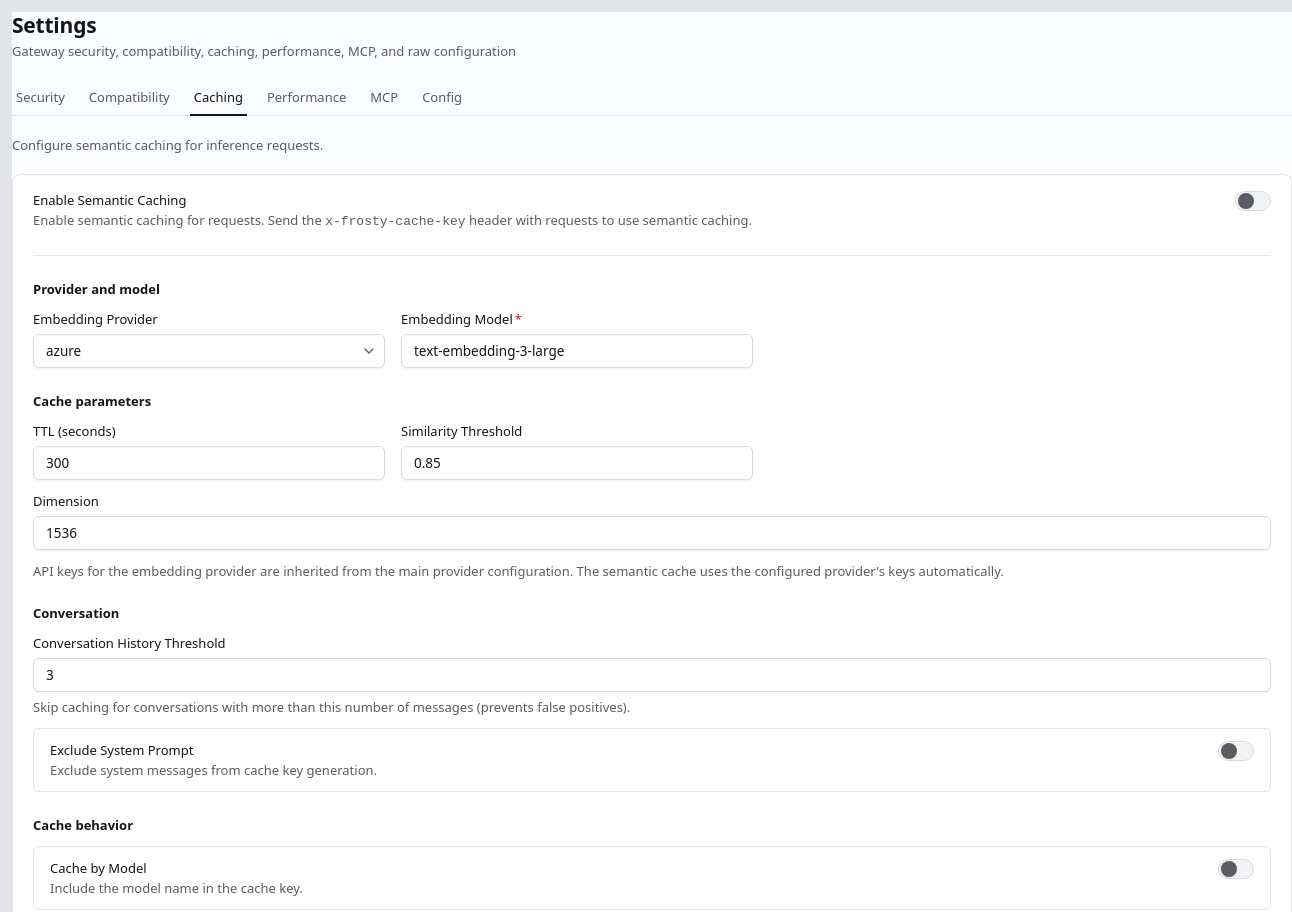
Test: SettingsView caching (Frosty headers, not x-bf-) › lists active providers in the embedding provider dropdown
This screenshot has width=1292, height=912.
Step 1. Click the tab "Caching" → (218, 98), box [190, 80, 247, 116]
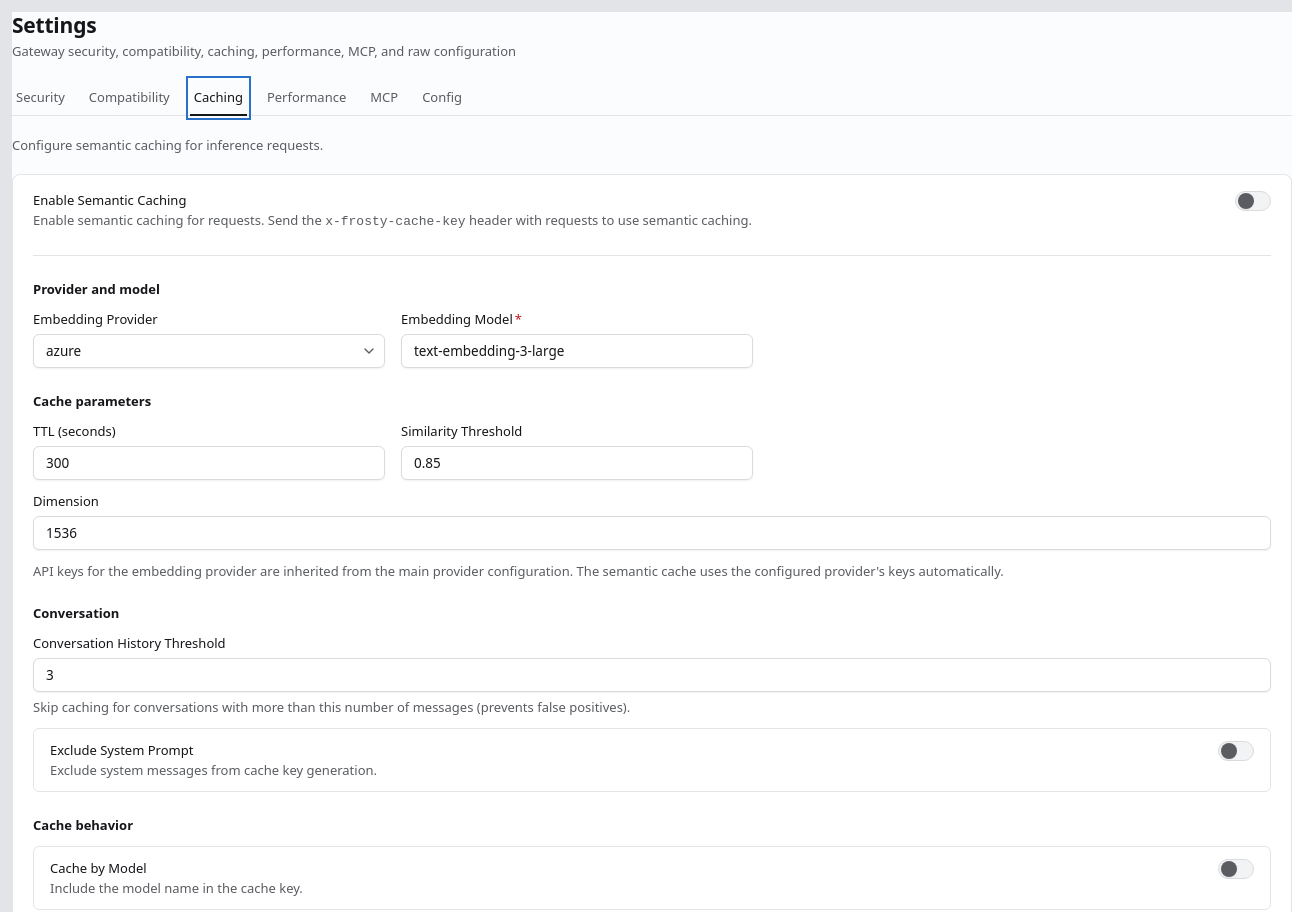
Step 2. Click the dropdown labelled "Embedding Provider" → (209, 351), box [33, 334, 385, 368]
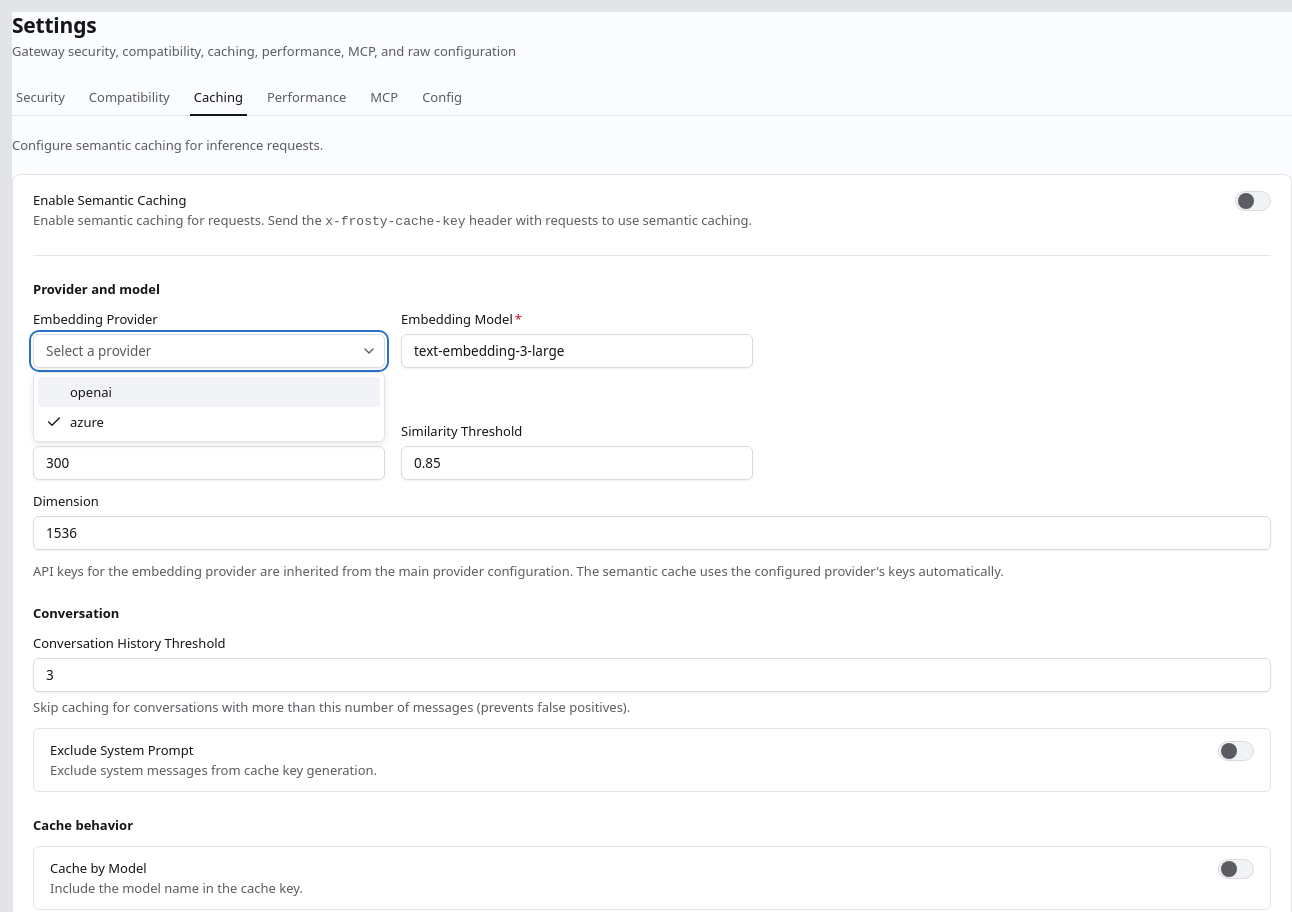
Expected: the option "openai" is shown, [38, 377, 380, 407]
Expected: the option "azure" is shown, [46, 413, 104, 431]
